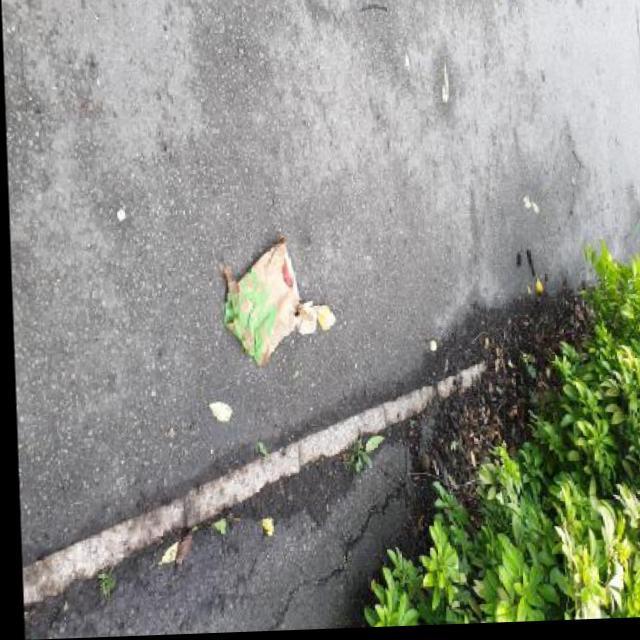paper: (219, 236, 301, 368)
